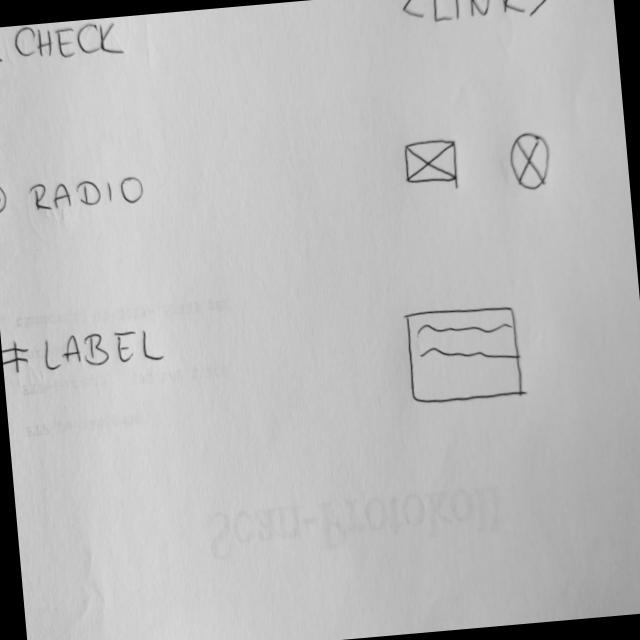checkbox: (1, 17, 129, 71)
image: (403, 136, 461, 190), (508, 129, 555, 195)
label: (2, 323, 170, 379)
link: (398, 1, 551, 30)
radio: (1, 169, 148, 220)
textarea: (403, 302, 529, 409)
